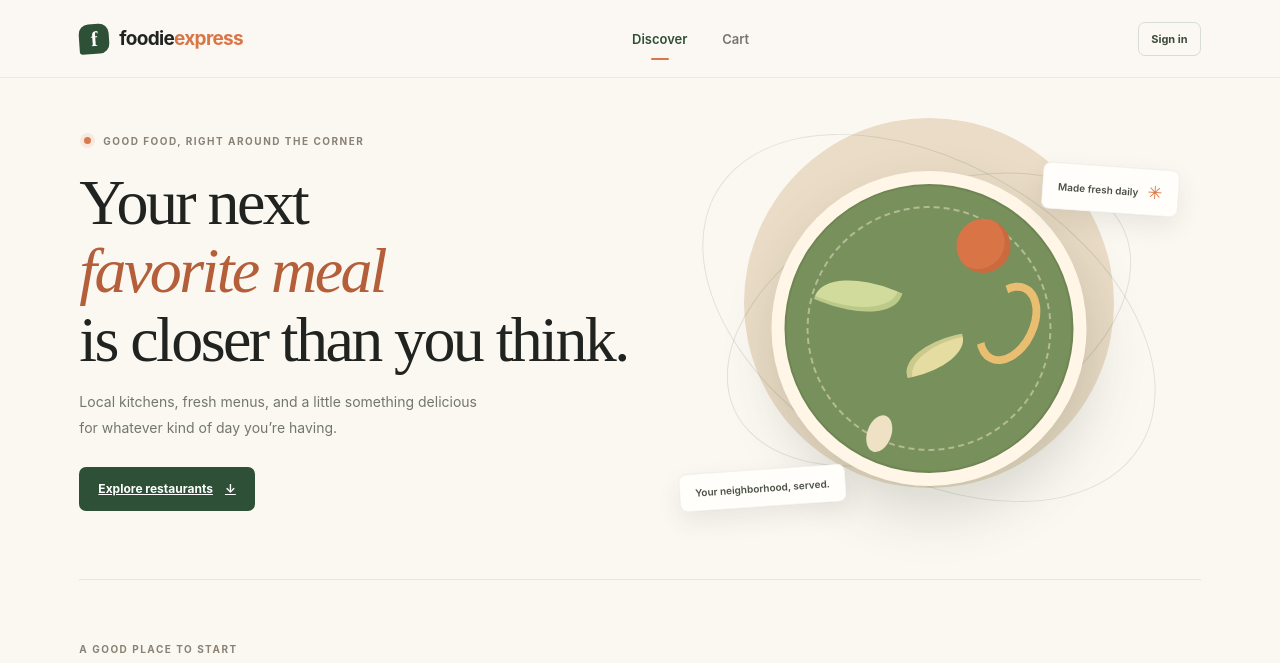
Test: FoodieExpress UI › requires an explicit kitchen choice when an owner has multiple restaurants
Click the button "Sign in": (1169, 38) left=1138, top=22, right=1201, bottom=56
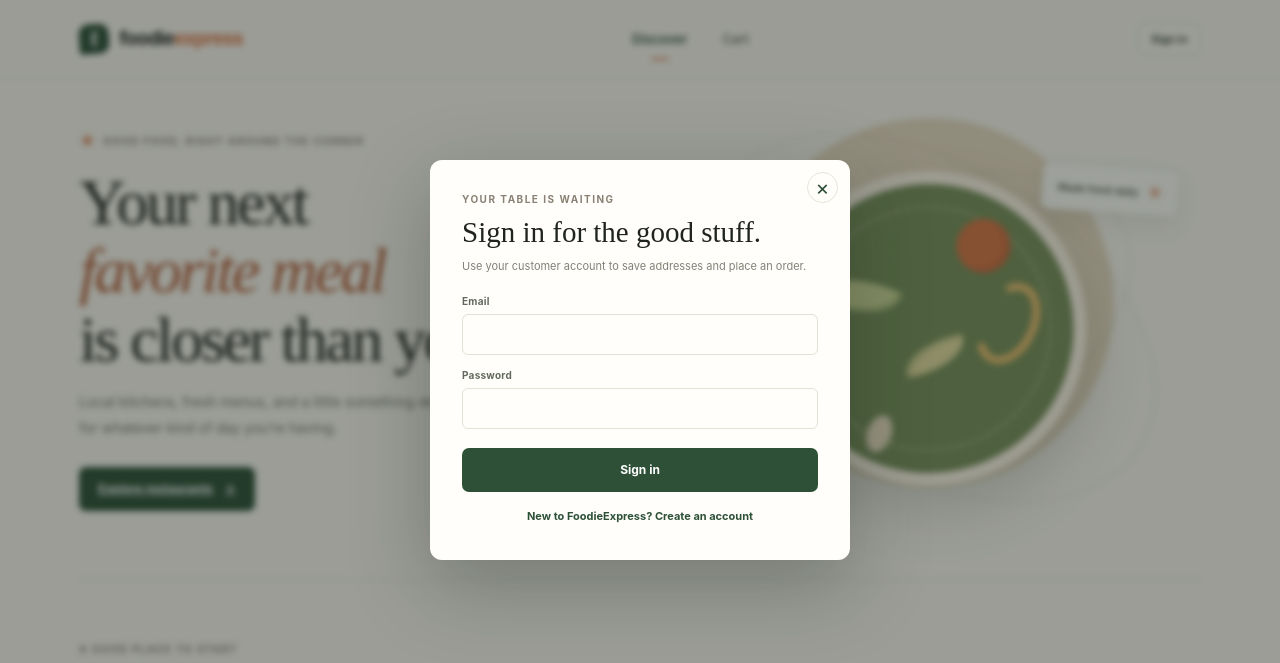
In the field labelled "Email": (640, 334) left=462, top=314, right=818, bottom=355, type "customer@example.test"
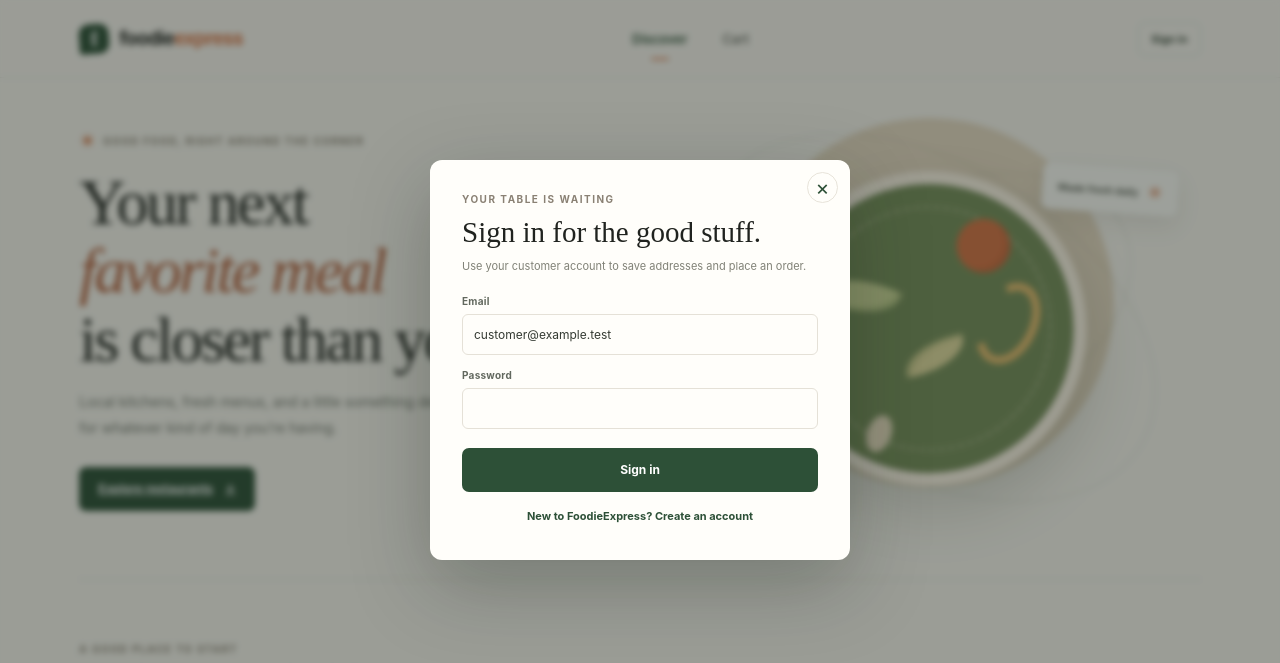
In the password field labelled "Password": (640, 408) left=462, top=388, right=818, bottom=429, type "correct-horse-battery"
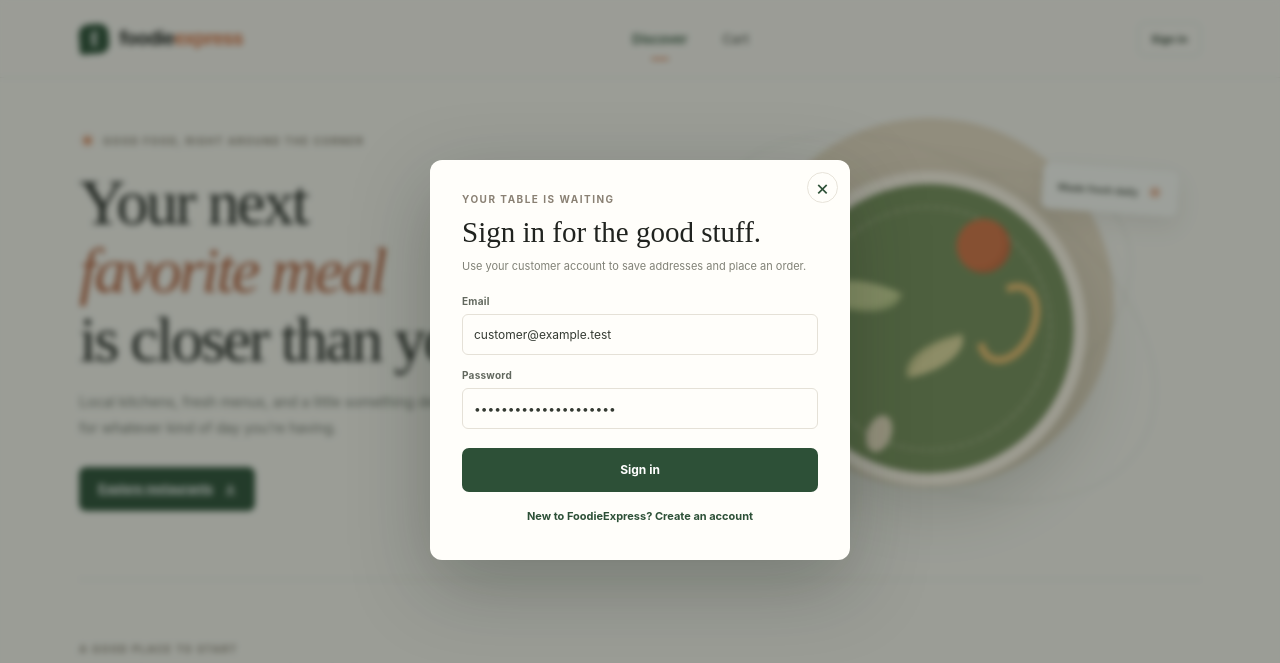
Click the button "Sign in": (640, 470) left=462, top=448, right=818, bottom=492
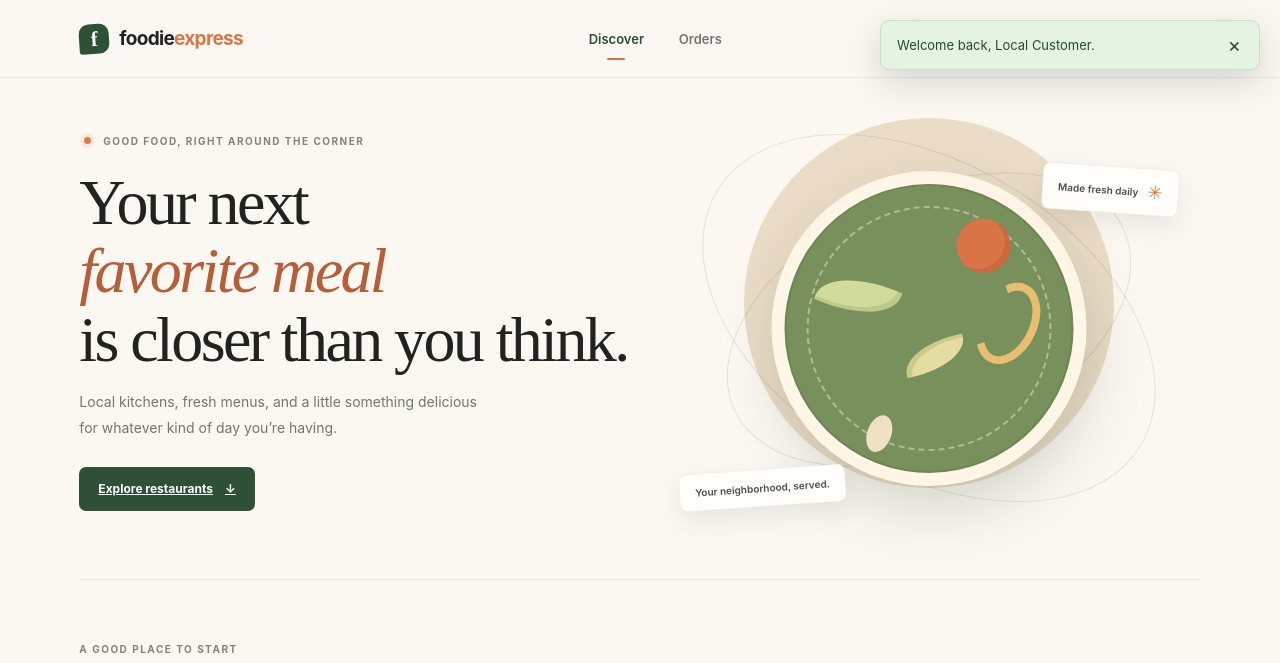
Expected: the text "Hi, Local" is shown, left=1068, top=31, right=1117, bottom=46
Click the button "Orders": (700, 38) left=677, top=0, right=724, bottom=77
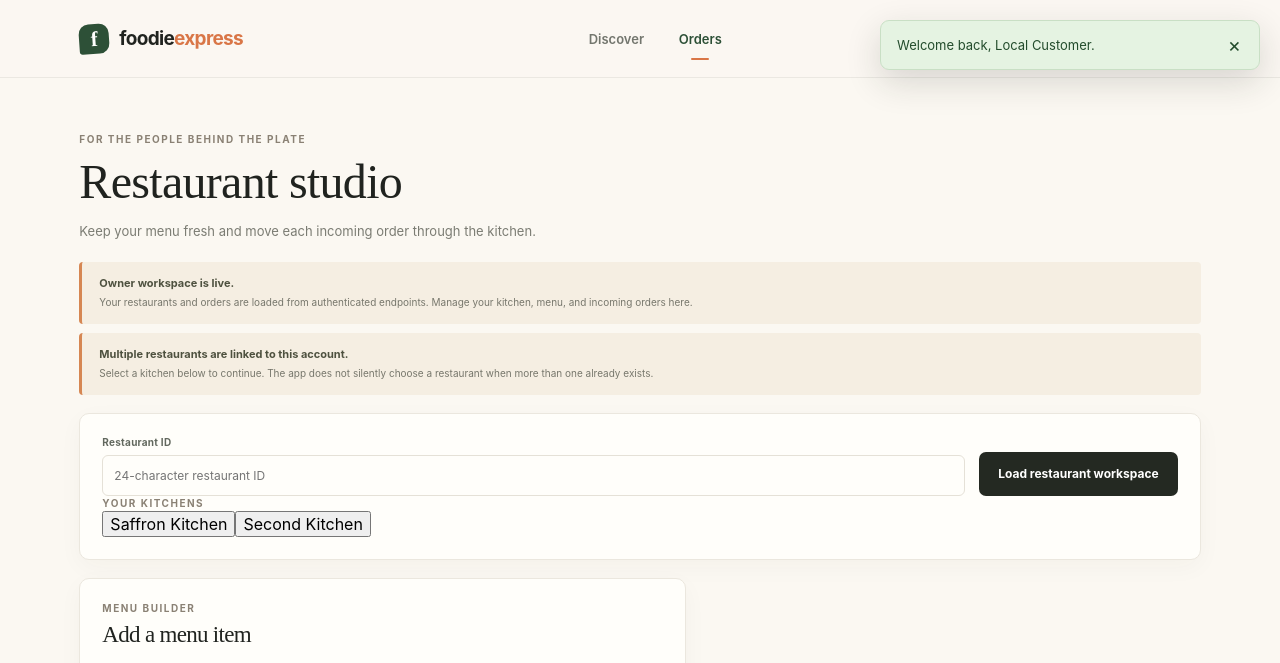
Expected: the text "Multiple restaurants are linked to this account." is shown, left=99, top=347, right=348, bottom=361
Expected: the button "Saffron Kitchen" is shown, left=102, top=511, right=236, bottom=537
Expected: the button "Second Kitchen" is shown, left=236, top=511, right=371, bottom=537
